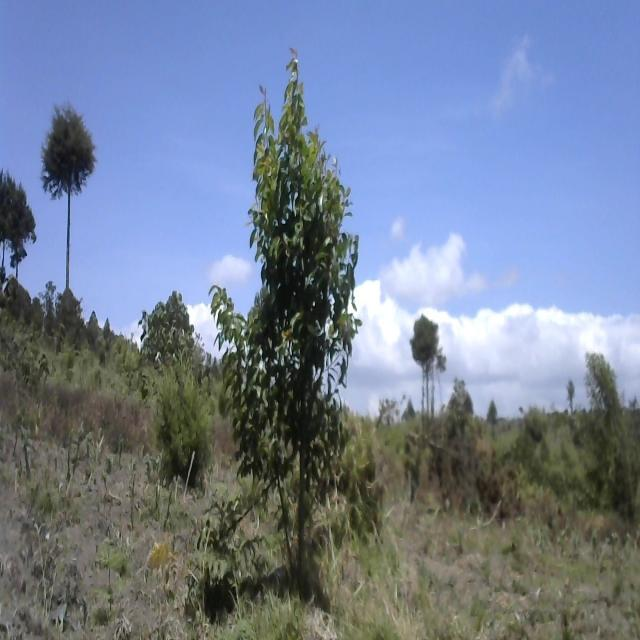Hass Avocado: (210, 46, 365, 558)
cedrus: (37, 95, 105, 293), (147, 345, 217, 486), (0, 153, 36, 307)
other: (406, 301, 446, 414), (138, 289, 197, 353)
